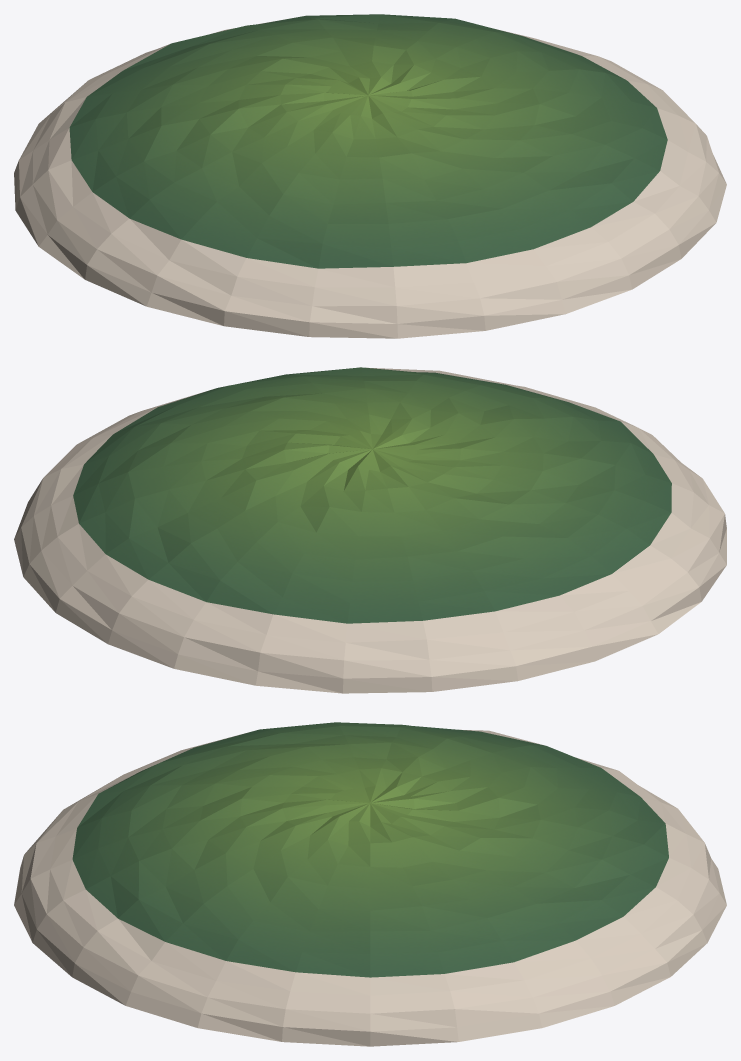
Rendered from Terrain_1.fbx.
3 views of the same model, one above another, from view 1: azimuth 30°, elevation 25°; view 2: azimuth 150°, elevation 25°; view 3: azimuth 270°, elevation 25° (orthographic).
Parts seen in each view (by area): view 1: pSphere1; view 2: pSphere1; view 3: pSphere1.
Part boxes in pixels (x1,y1,x2,y2): pSphere1: (14,14,726,338); pSphere1: (14,367,726,693); pSphere1: (14,722,726,1046).
Bounding box in the file's own units: 5009 × 745 × 5049.
